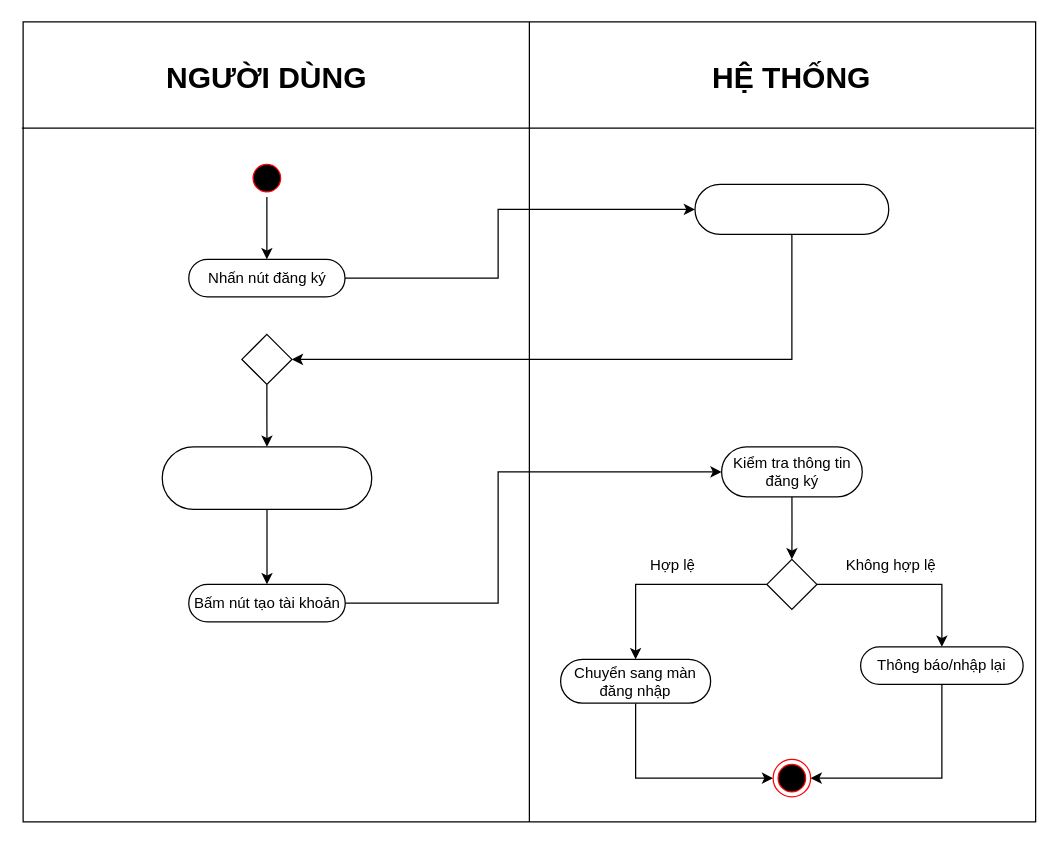
The diagram is 1058 pixels wide and 845 high, and some of its shapes have lost their labels. The centre of each missing label's shape, as x and y in pixels:
"Chuyển sang màn hình đăng ký" goes at pixel 791 208.
"Nhập thông tin (Name,Email,Pass1,Pass2)" goes at pixel 266 477.
